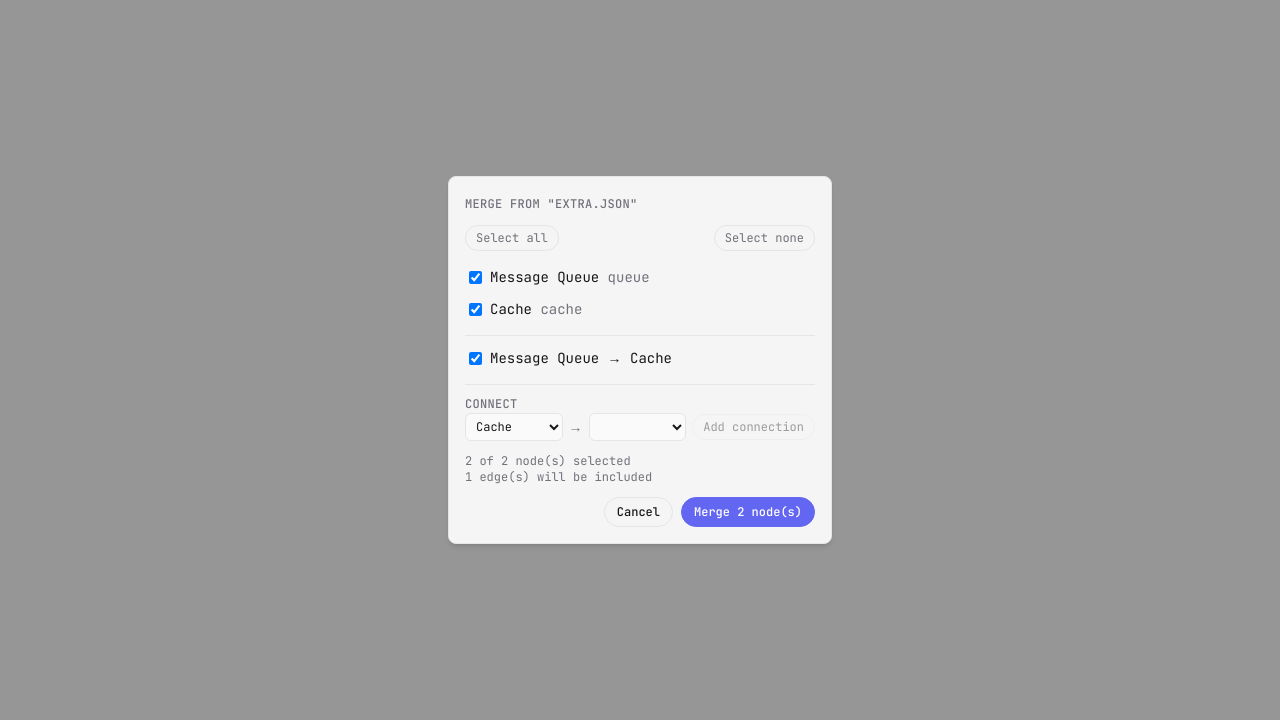
Test case: MergePickerDialog › shows a live count of selected nodes and included edges
expect the text "2 of 2 node(s) selected" is shown: met, box [465,453,631,469]
expect the text "1 edge(s) will be included" is shown: met, box [465,469,652,485]
What coordinates should you click on to do the following:
click the checkbox labelled "Cache cache"
I would click on:
 (476, 310)
Its box is [469,303,482,316].
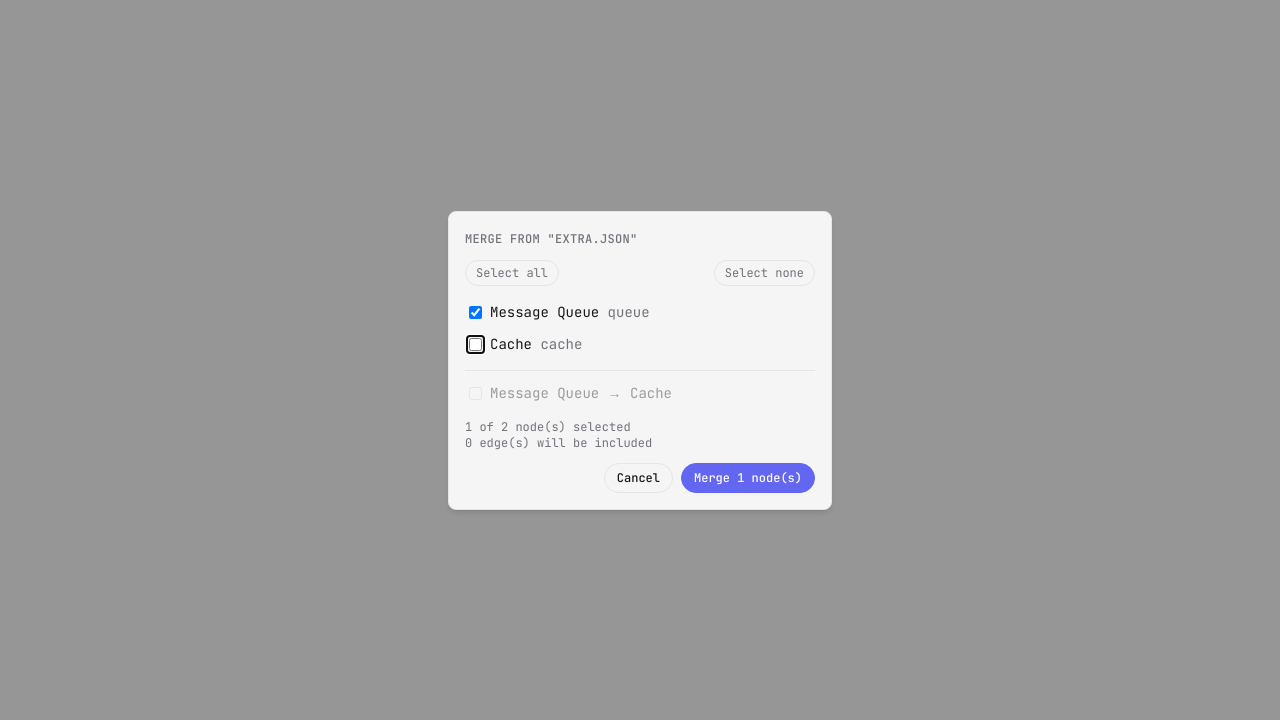
expect the text "1 of 2 node(s) selected" is shown: met, box [465,418,631,434]
expect the text "0 edge(s) will be included" is shown: met, box [465,434,652,450]
